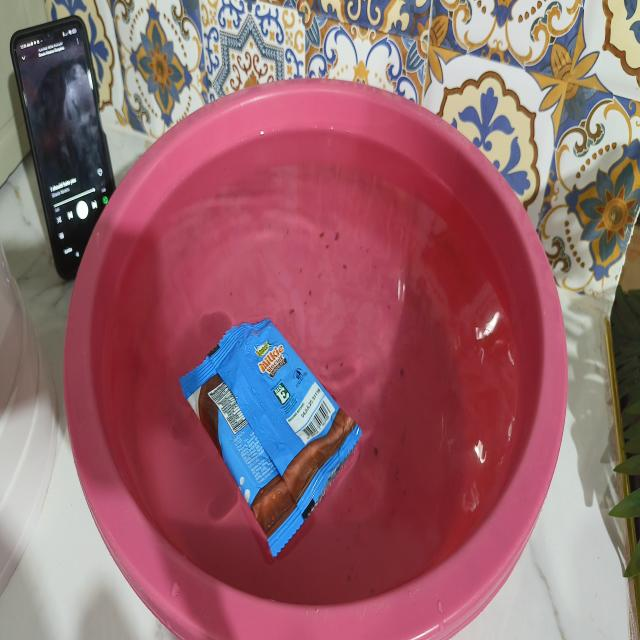Plastic Wrapper: (179, 319, 361, 557)
